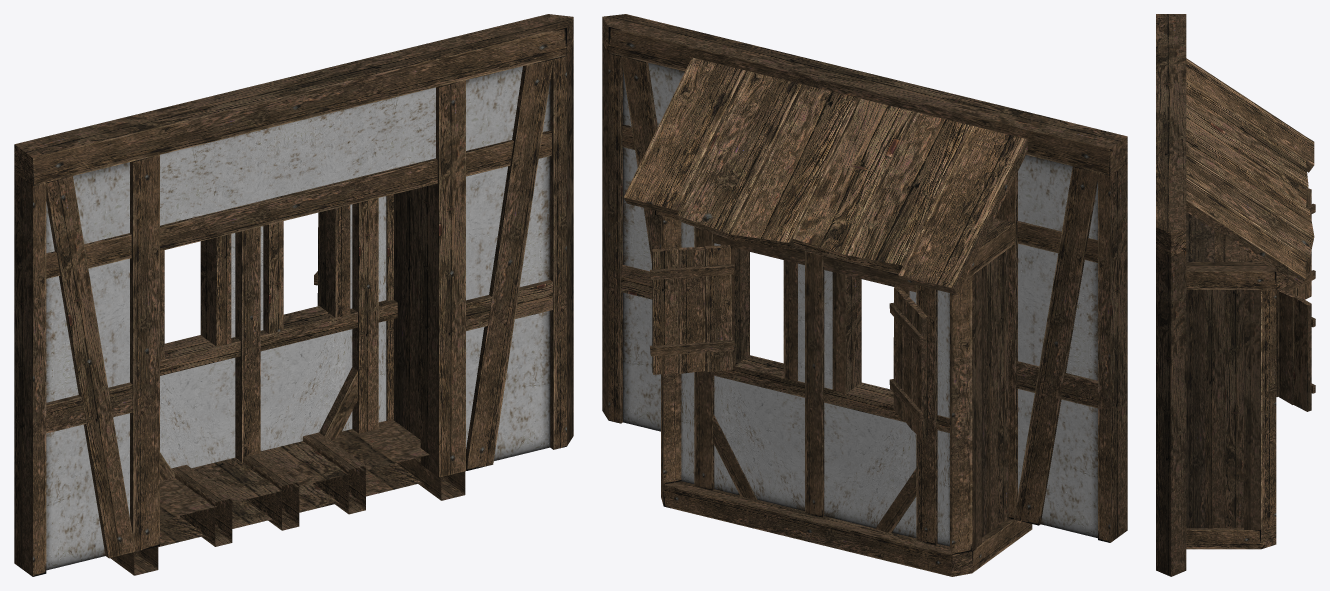
Rendered from timberWallJetty_upper.dae.
3 views of the same model, side by side, from view 1: azimuth 30°, elevation 25°; view 2: azimuth 150°, elevation 25°; view 3: azimuth 270°, elevation 25° (orthographic). The views are drawn at different scales.
Parts seen in each view (by area): view 1: TiimberWallJetty; view 2: TiimberWallJetty; view 3: TiimberWallJetty.
Part boxes in pixels (box(x1,y1,x2,y2)): TiimberWallJetty: box(14, 14, 573, 576); TiimberWallJetty: box(602, 14, 1127, 576); TiimberWallJetty: box(1156, 14, 1315, 576).
Bounding box in the file's own units: 4.12 × 3.17 × 1.27.
Materials: 1 (1 with a texture image).
